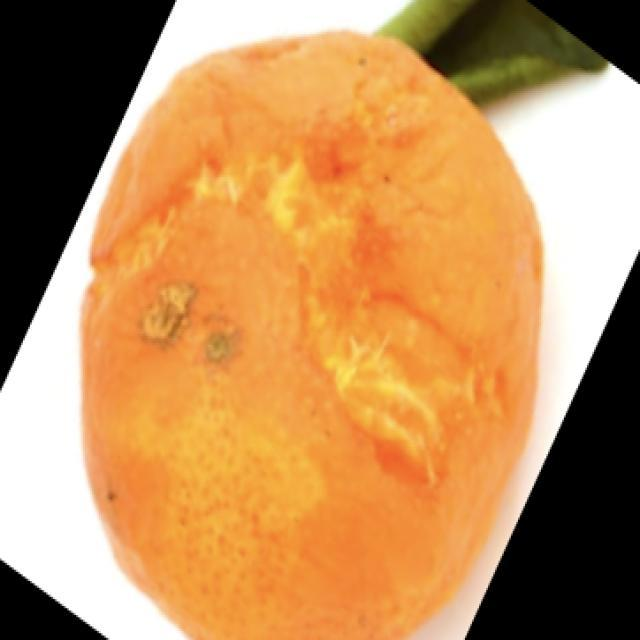sedikit-busuk: (81, 32, 542, 639), (87, 155, 493, 482)
